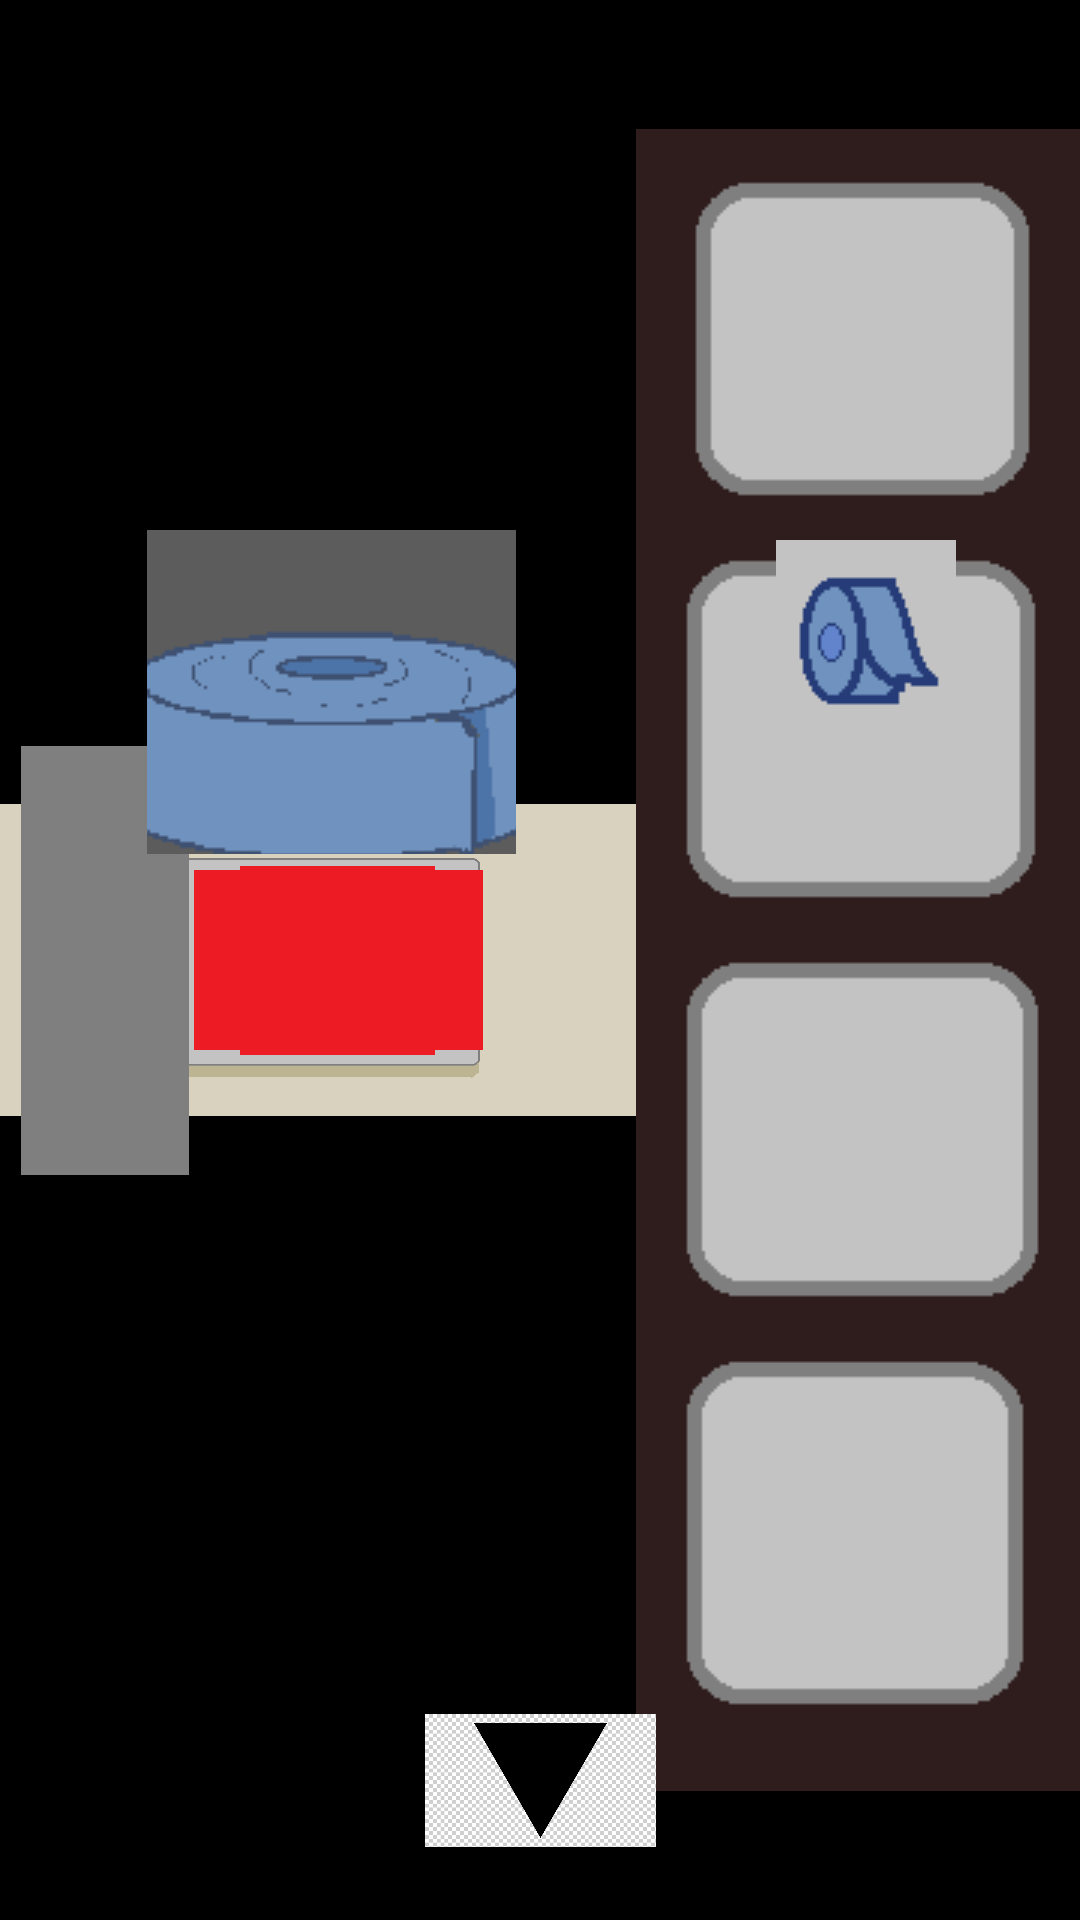

Point at icon controls on the screen. Image size 1080×1920, points as (x=x, y=y).
treug: (x=540, y=1744)
